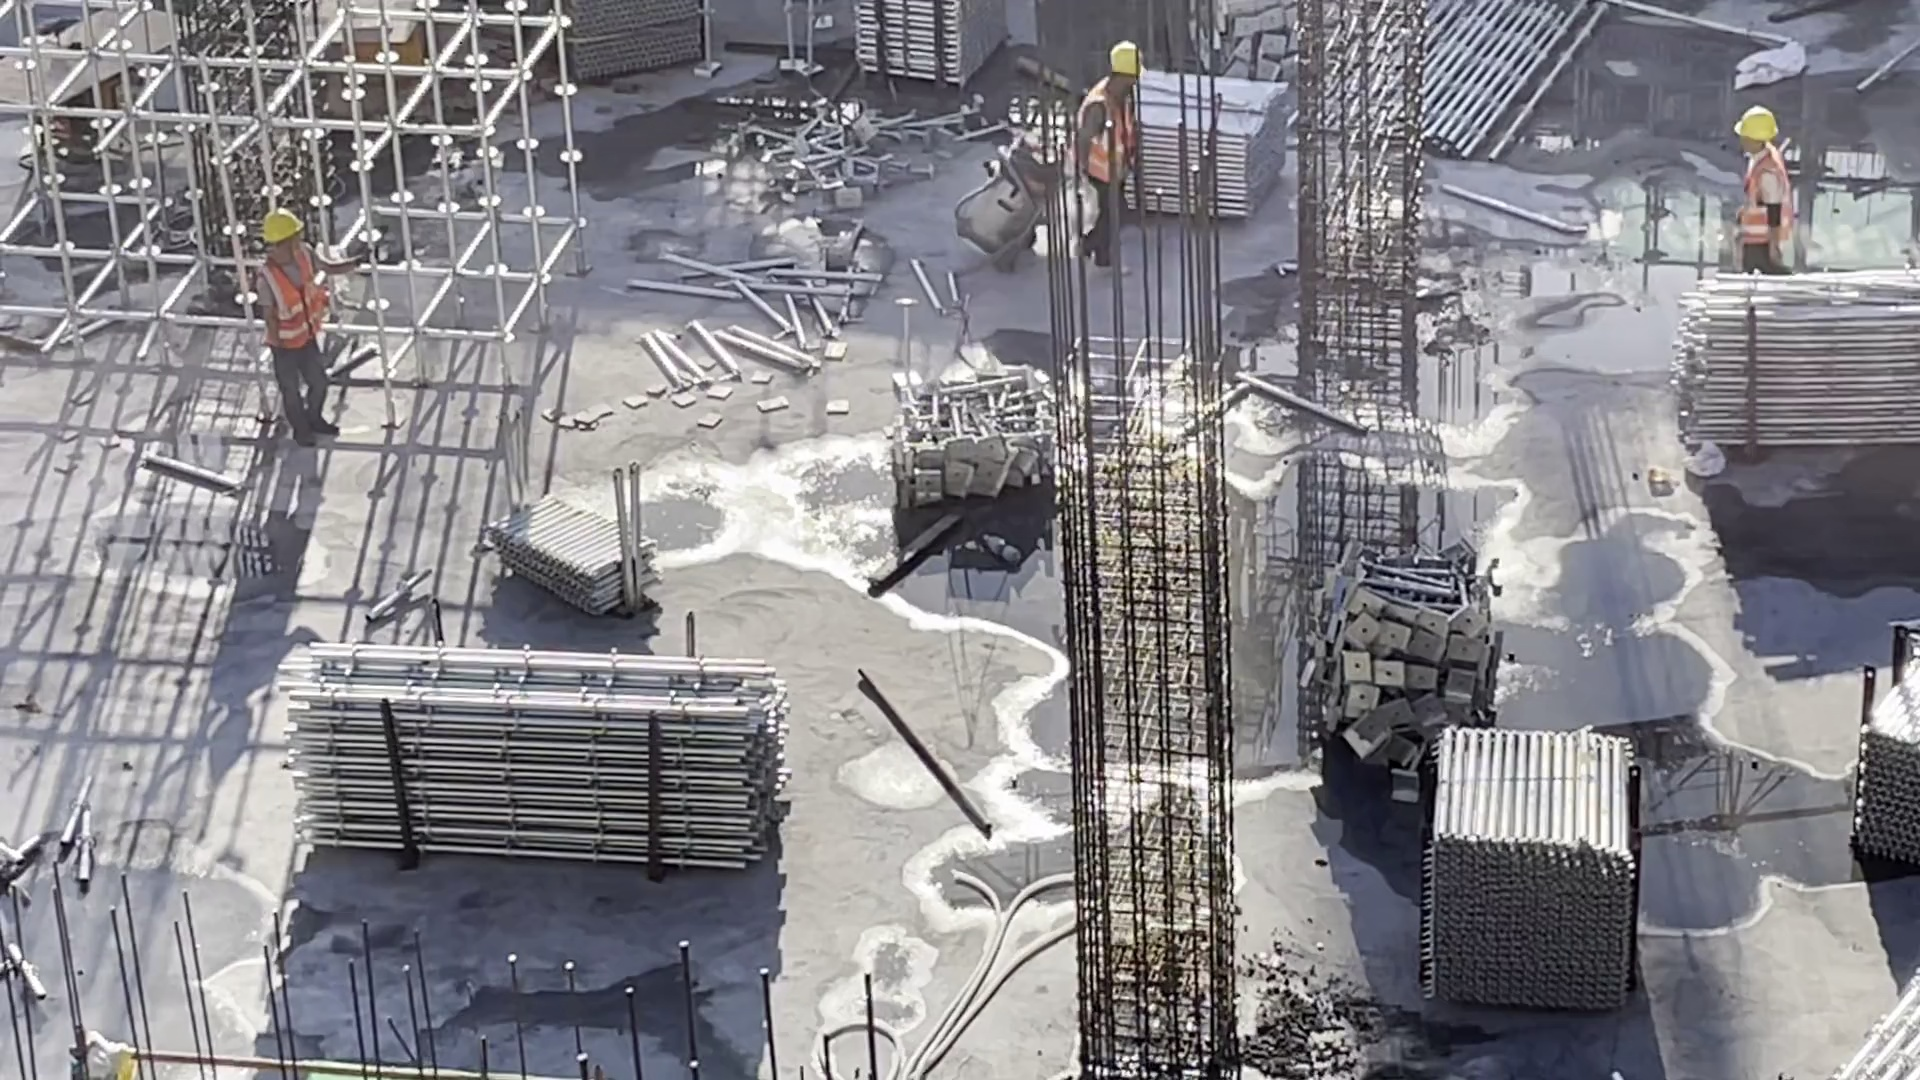cutter: (10, 5, 204, 169), (278, 6, 447, 106)
helmet: (1729, 102, 1793, 145), (1104, 41, 1167, 78), (266, 195, 304, 246)
person: (249, 209, 358, 460), (1075, 38, 1167, 290), (1715, 97, 1801, 282)
scaffold: (301, 656, 776, 861), (1409, 740, 1656, 1014), (1673, 274, 1920, 473), (1313, 555, 1516, 780), (1335, 1, 1590, 161), (1100, 76, 1291, 224), (880, 368, 1064, 513), (499, 492, 667, 616), (1838, 622, 1920, 878), (529, 3, 697, 108), (832, 1, 994, 85), (786, 116, 905, 208), (1818, 982, 1920, 1080), (1197, 5, 1301, 97)
vest: (1090, 86, 1156, 184), (1741, 148, 1794, 255), (280, 240, 329, 343)
